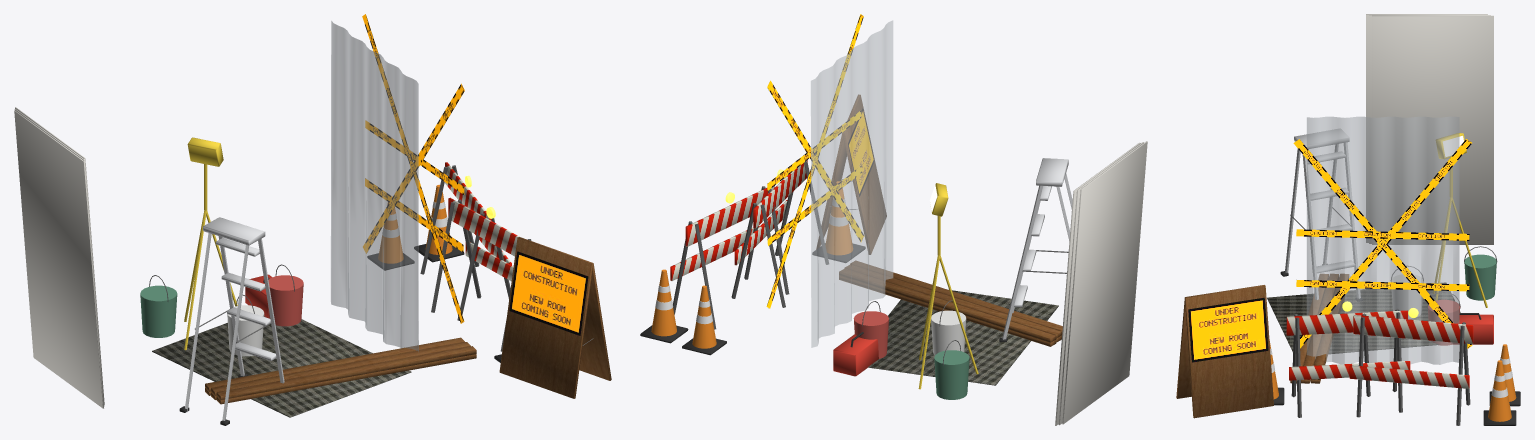
Rendered from construction.glb.
3 views of the same model, side by side, from view 1: azimuth 30°, elevation 25°; view 2: azimuth 150°, elevation 25°; view 3: azimuth 270°, elevation 25° (orthographic). The views are drawn at different scales.
Parts seen in each view (by area): view 1: Plastic sheet, Drywall sheet, Lumber, Drop cloth, Aluminum, Construction sign, Caution tape, Barricade stripes, Painted steel, Tool yellow, Bucket.001, Bucket.002 (+3 smaller); view 2: Plastic sheet, Drywall sheet, Lumber, Drop cloth, Barricade stripes, Caution tape, Painted steel, Cone orange, Aluminum, Bucket.001, Tool yellow, Toolbox (+5 smaller); view 3: Plastic sheet, Drywall sheet, Lumber, Barricade stripes, Caution tape, Construction sign, Drop cloth, Aluminum, Painted steel, Cone orange, Bucket.001, Tool yellow (+5 smaller).
Boxes of the visible parts, bbox=[...] form: Plastic sheet: bbox=[331, 21, 418, 351]; Drywall sheet: bbox=[14, 107, 104, 408]; Lumber: bbox=[205, 237, 611, 404]; Drop cloth: bbox=[152, 316, 411, 417]; Aluminum: bbox=[185, 217, 284, 420]; Construction sign: bbox=[509, 251, 588, 335]; Caution tape: bbox=[362, 14, 464, 323]; Barricade stripes: bbox=[445, 162, 519, 281]; Painted steel: bbox=[149, 165, 593, 351]; Tool yellow: bbox=[184, 137, 237, 350]; Bucket.001: bbox=[140, 285, 177, 337]; Bucket.002: bbox=[268, 275, 303, 326]; Plastic sheet: bbox=[811, 20, 893, 347]; Drywall sheet: bbox=[1055, 141, 1147, 425]; Lumber: bbox=[816, 94, 1062, 346]; Drop cloth: bbox=[868, 290, 1058, 385]; Barricade stripes: bbox=[670, 160, 807, 280]; Caution tape: bbox=[766, 14, 863, 308]; Painted steel: bbox=[673, 160, 1068, 365]; Cone orange: bbox=[651, 181, 852, 348]; Aluminum: bbox=[1002, 158, 1072, 339]; Bucket.001: bbox=[934, 350, 969, 399]; Tool yellow: bbox=[918, 183, 978, 389]; Toolbox: bbox=[833, 334, 878, 376]; Plastic sheet: bbox=[1307, 116, 1459, 364]; Drywall sheet: bbox=[1366, 14, 1493, 244]; Lumber: bbox=[1176, 274, 1348, 418]; Barricade stripes: bbox=[1286, 310, 1473, 388]; Caution tape: bbox=[1293, 139, 1472, 348]; Construction sign: bbox=[1188, 297, 1268, 362]; Drop cloth: bbox=[1267, 282, 1460, 353]; Aluminum: bbox=[1285, 128, 1360, 299]; Painted steel: bbox=[1290, 207, 1497, 425]; Cone orange: bbox=[1269, 339, 1516, 421]; Bucket.001: bbox=[1464, 254, 1496, 300]; Tool yellow: bbox=[1433, 133, 1487, 307].
Size of the model in its own units: 4.46 by 2.67 by 3.38.
20 materials, 5 textured.
